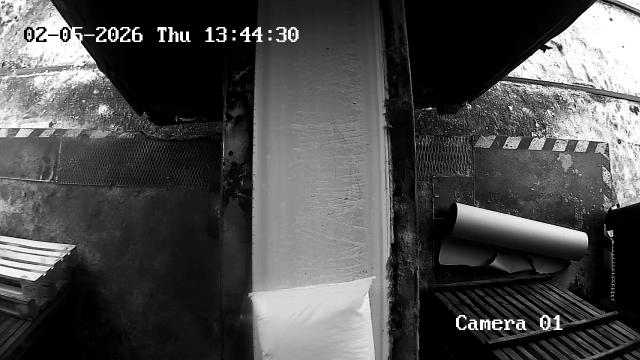bag: (249, 279, 375, 360)
